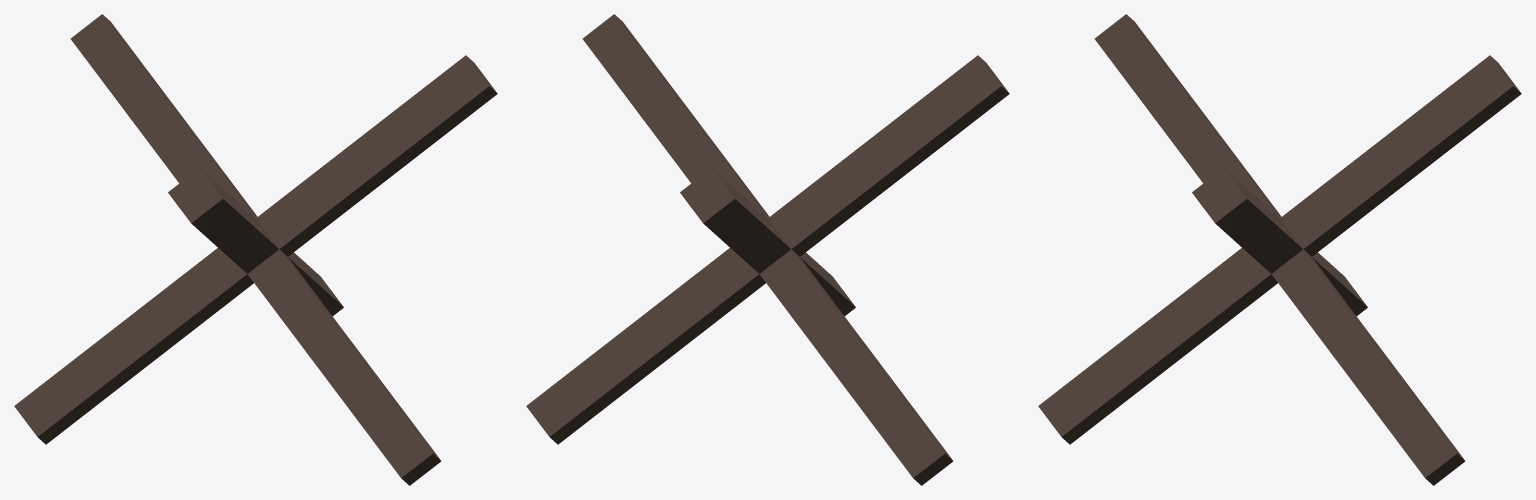
File: tank_hedgehog.glb
3 renders of one model, left to right at view 1: azimuth 30°, elevation 25°; view 2: azimuth 150°, elevation 25°; view 3: azimuth 270°, elevation 25°, orthographic.
Visible parts, largest first — view 1: tank_hedgehog; view 2: tank_hedgehog; view 3: tank_hedgehog.
Part boxes in pixels (left/top/right/bottom): tank_hedgehog: left=14, top=14, right=497, bottom=485; tank_hedgehog: left=526, top=14, right=1009, bottom=485; tank_hedgehog: left=1038, top=14, right=1521, bottom=485.
Size of the model in its own units: 1.79 by 1.4 by 1.79.
